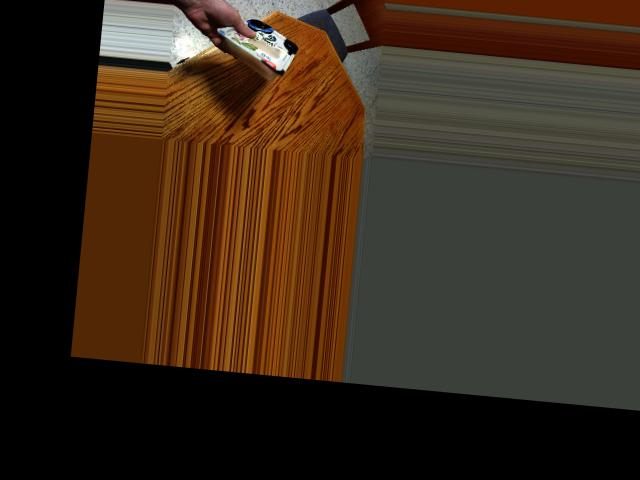cheese: (225, 6, 297, 89)
